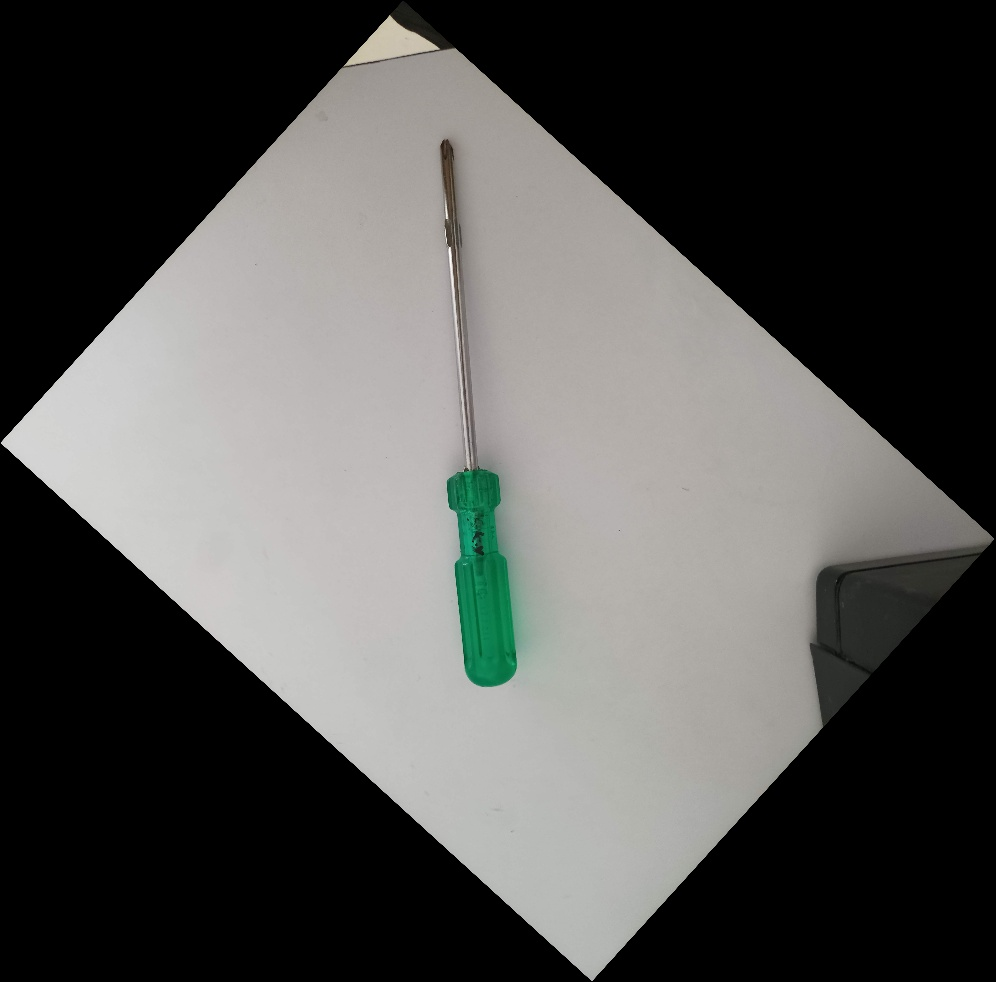screwdriver: (437, 132, 522, 689)
